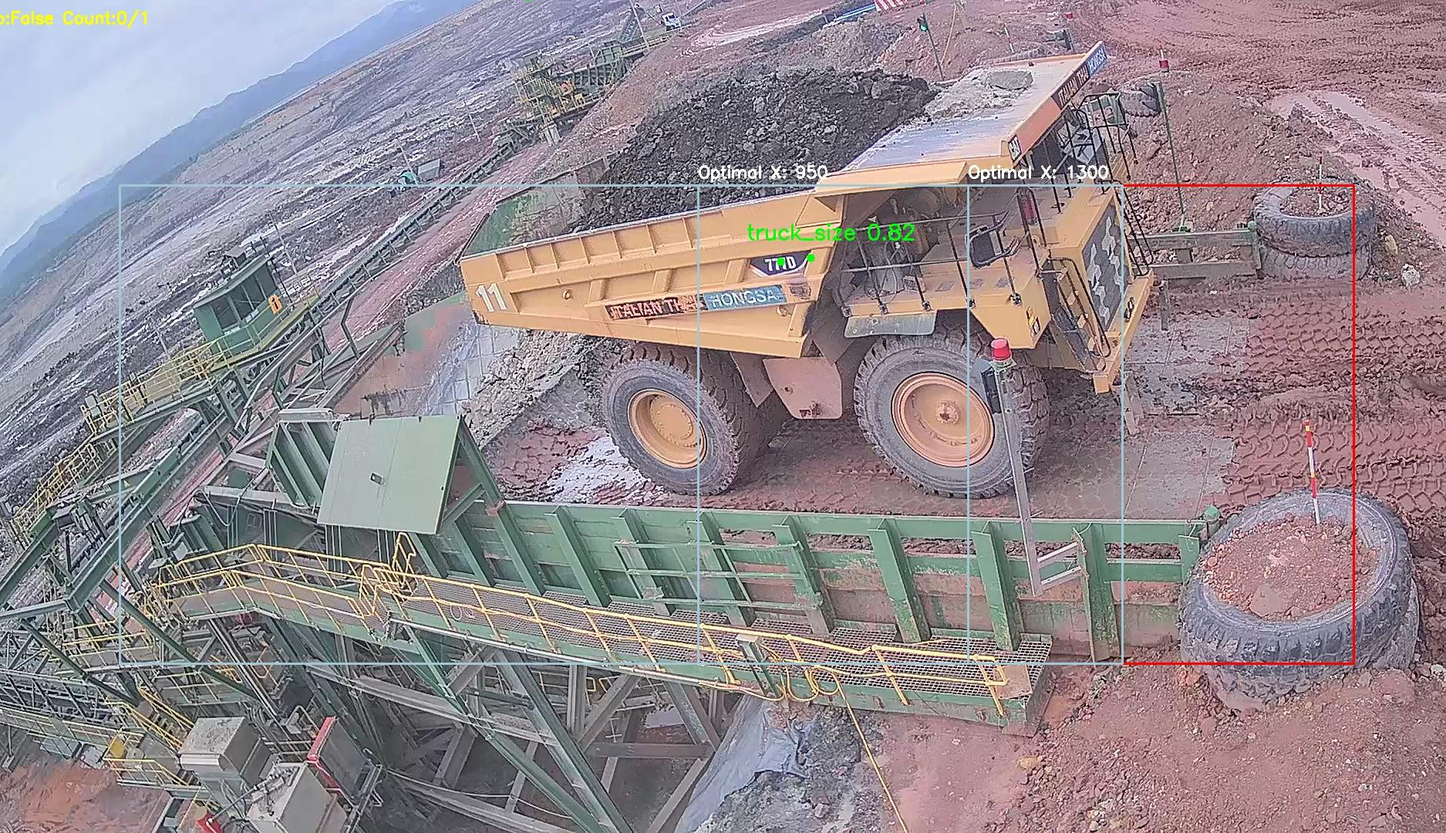company: (595, 282, 800, 322)
full_load: (572, 63, 895, 216)
mining_truck: (455, 37, 1179, 495)
tail_number: (469, 279, 518, 318)
truck_size: (741, 248, 816, 278)
